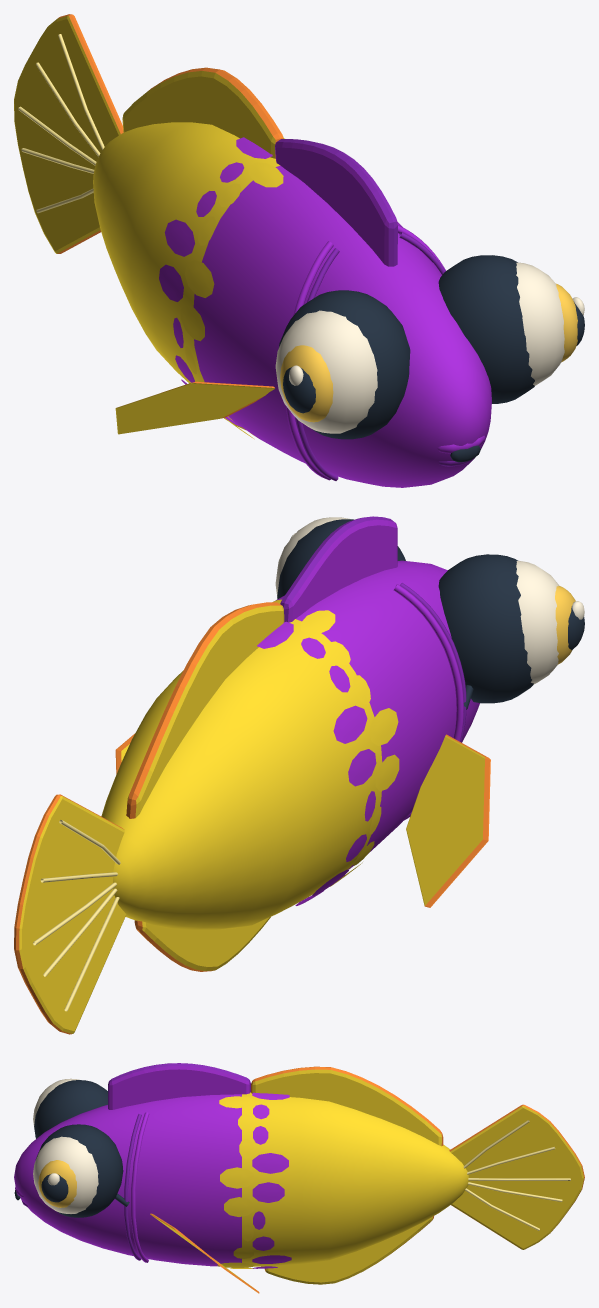
Rendered from royal-gramma.glb.
The picture shows the model from 3 angles, top to bottom: view 1: azimuth 30°, elevation 25°; view 2: azimuth 150°, elevation 25°; view 3: azimuth 270°, elevation 25°; orthographic projection. The views are drawn at different scales.
Parts seen in each view (by area): view 1: BodyMesh, TailMesh, PectoralMesh; view 2: BodyMesh, TailMesh, PectoralMesh; view 3: BodyMesh, TailMesh, PectoralMesh.001.
Boxes of the visible parts, <box> form: BodyMesh: <box>93,67,584,487</box>; TailMesh: <box>14,14,123,253</box>; PectoralMesh: <box>115,381,274,434</box>; BodyMesh: <box>101,516,584,971</box>; TailMesh: <box>14,794,126,1034</box>; PectoralMesh: <box>406,734,490,907</box>; BodyMesh: <box>14,1063,468,1284</box>; TailMesh: <box>449,1104,584,1249</box>; PectoralMesh.001: <box>150,1213,259,1293</box>.
Size of the model in its own units: 1.22 by 1.09 by 2.55.
